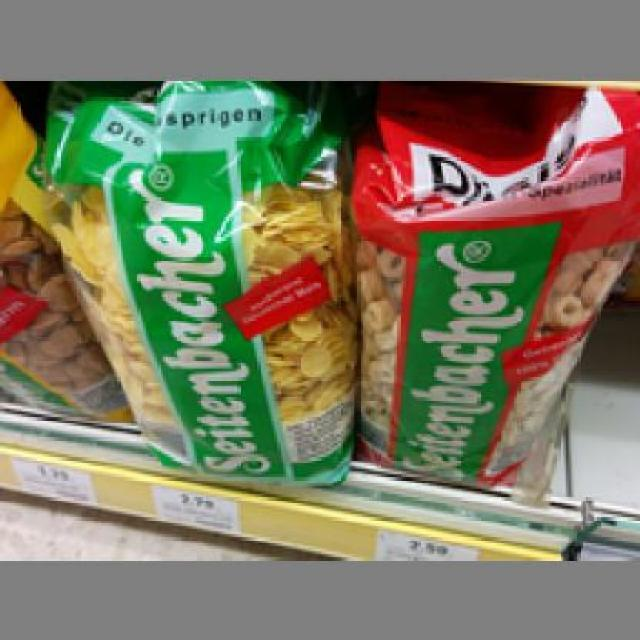Cereal: (37, 90, 346, 483), (346, 102, 634, 488)
